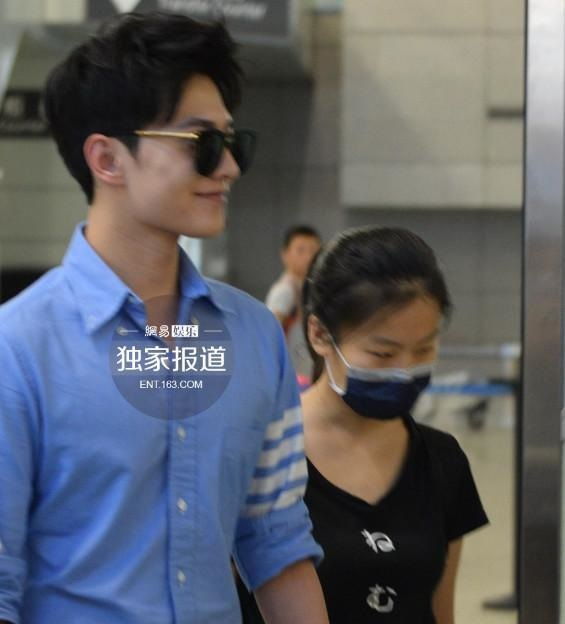face: (129, 77, 241, 237), (289, 238, 320, 278)
face_mask: (336, 292, 440, 421)
